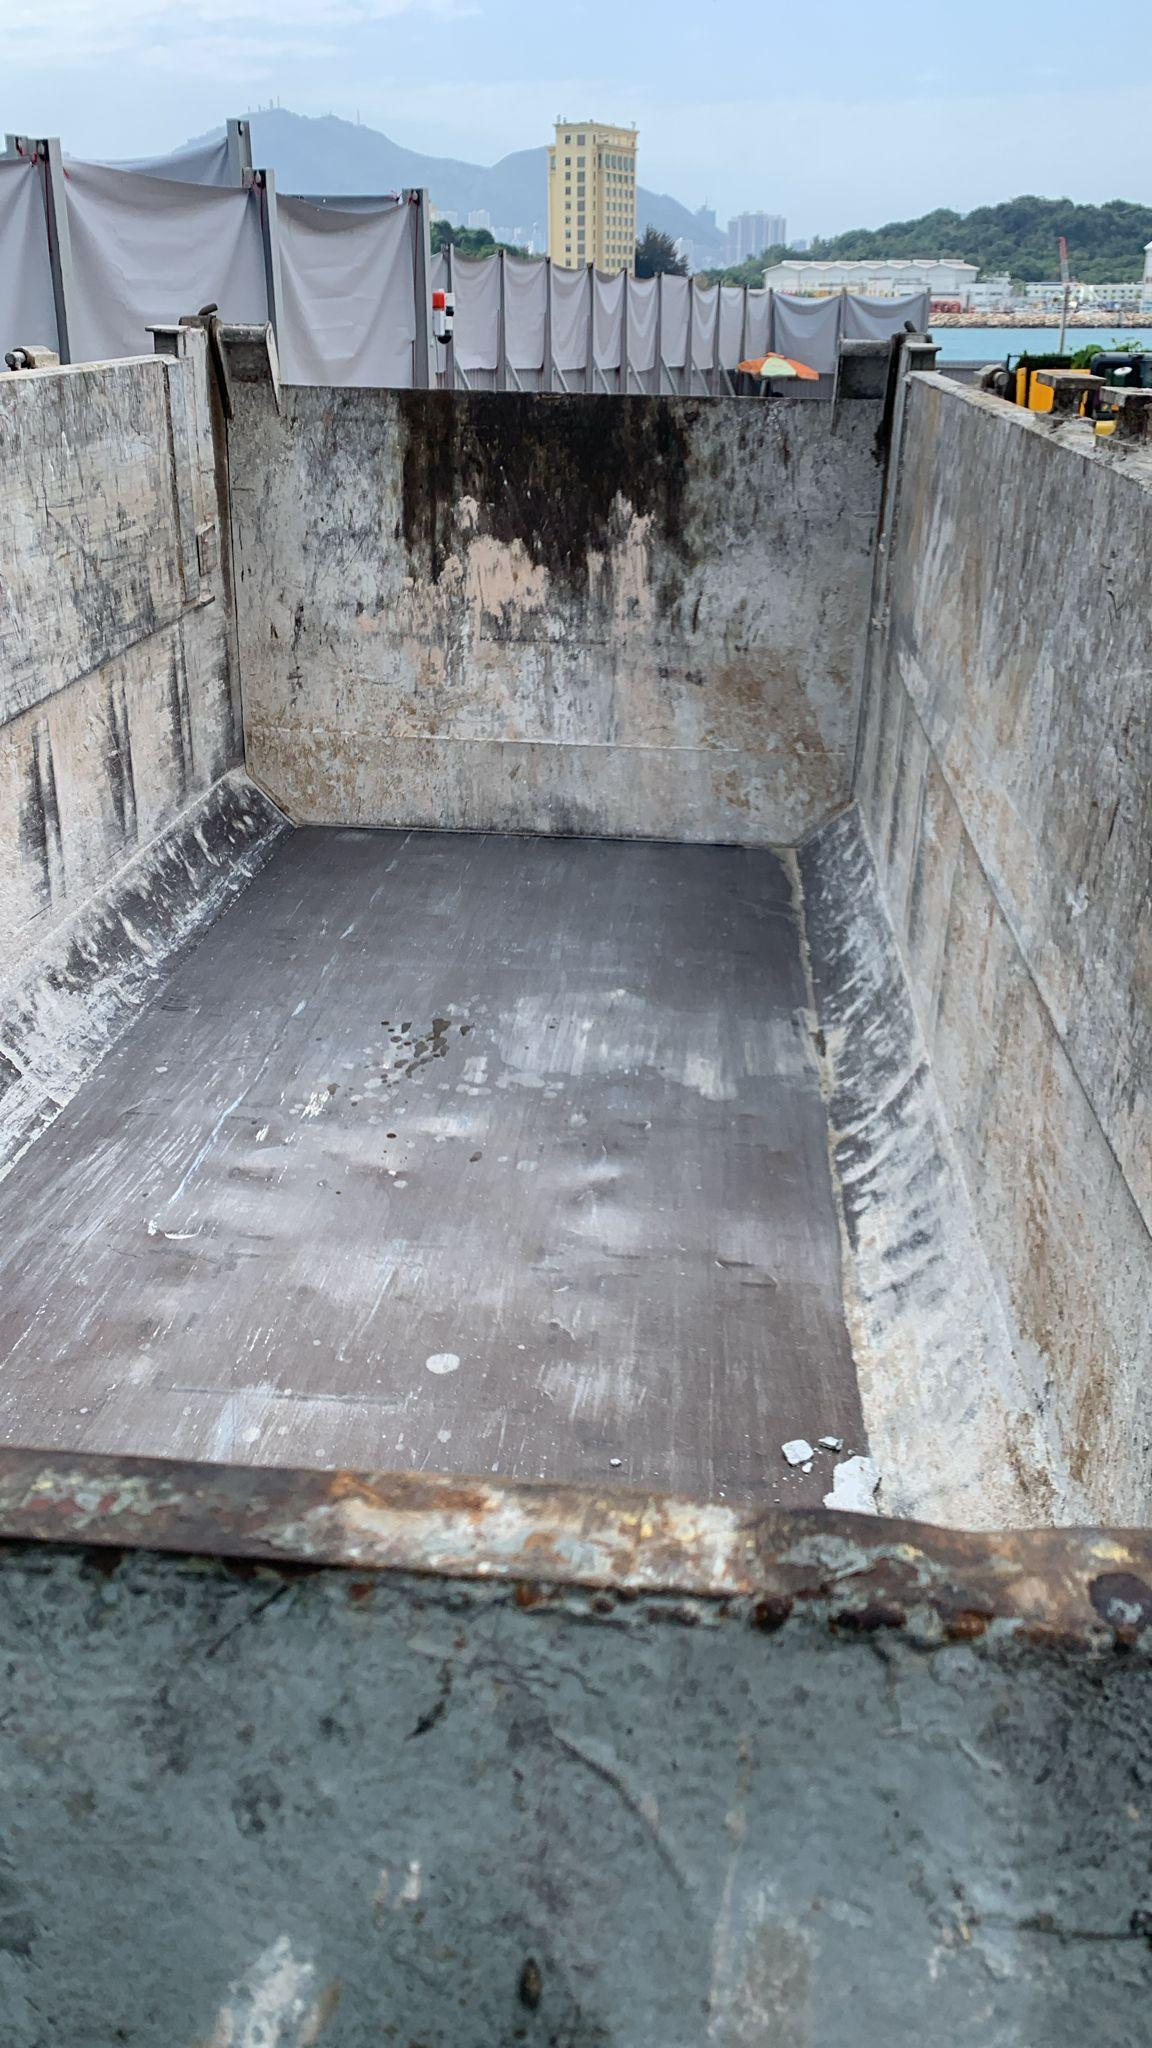nothing: (0, 603, 1152, 1543), (24, 840, 890, 1499)
